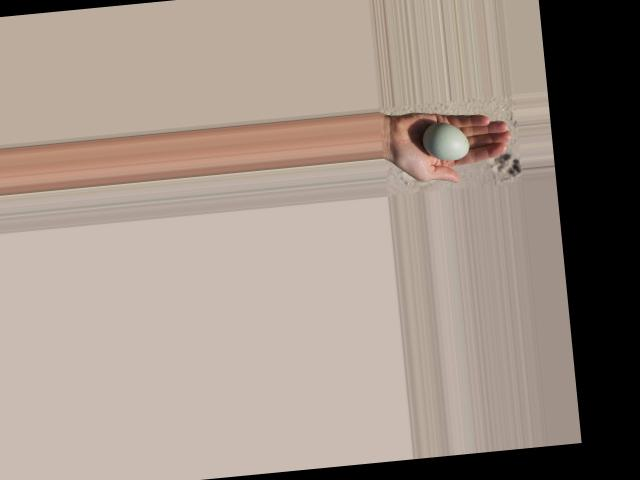egg: (422, 119, 469, 161)
